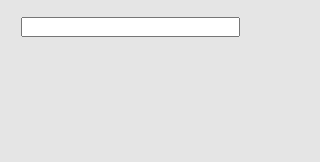
Test case: LocationInput › shows a message when nothing matches, and keeps the typed text
Type "qwertyuiop" into the dropdown named "Boarding stop" at (130, 27), box [20,17,240,37]
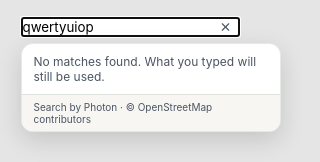
expect the text "No matches found. What you typed will still be used." is shown: met, box [22,44,280,94]
